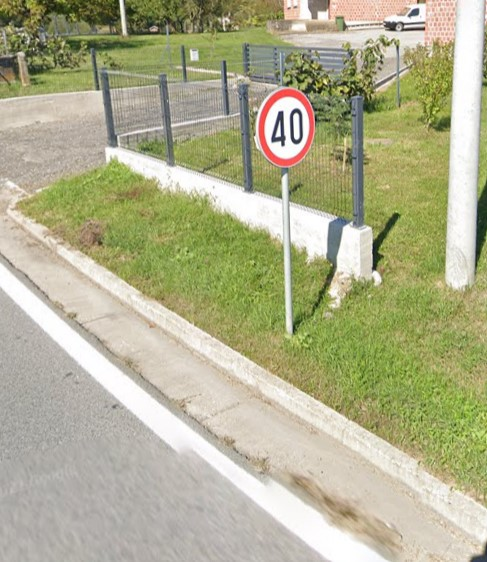Ograničenje brzine 40: (257, 86, 316, 168)
